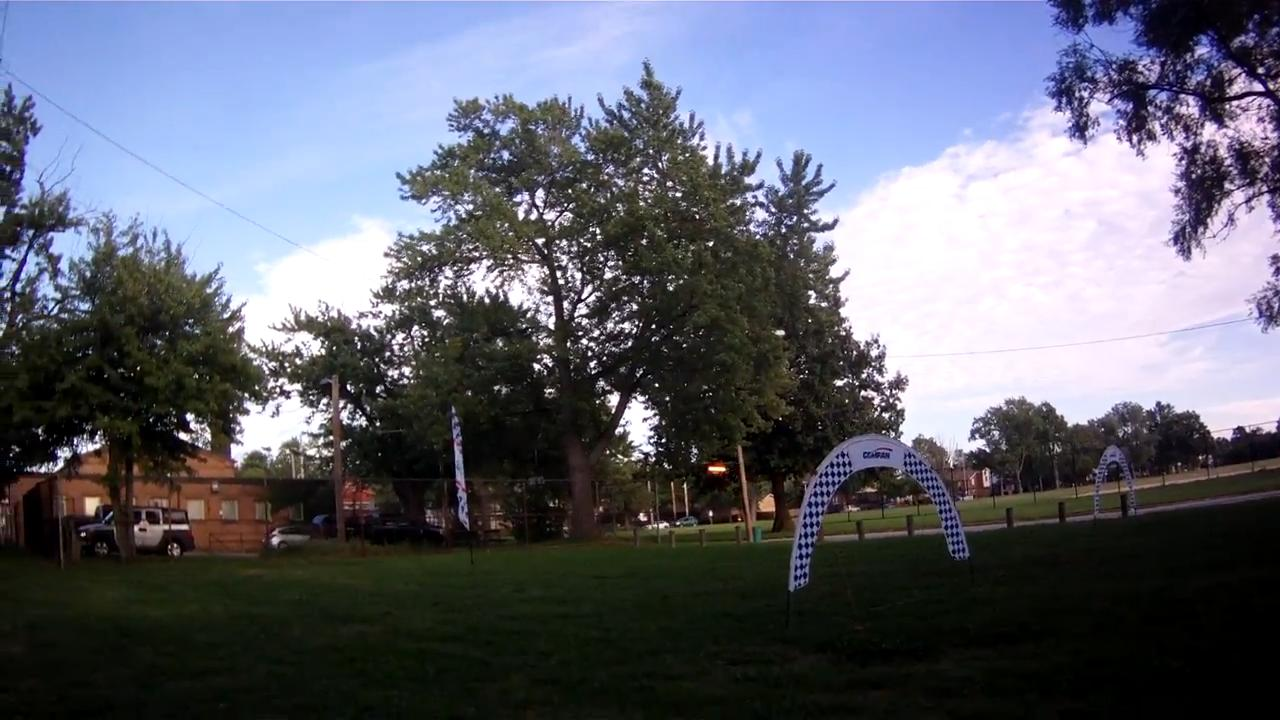gate: (781, 429, 972, 597)
